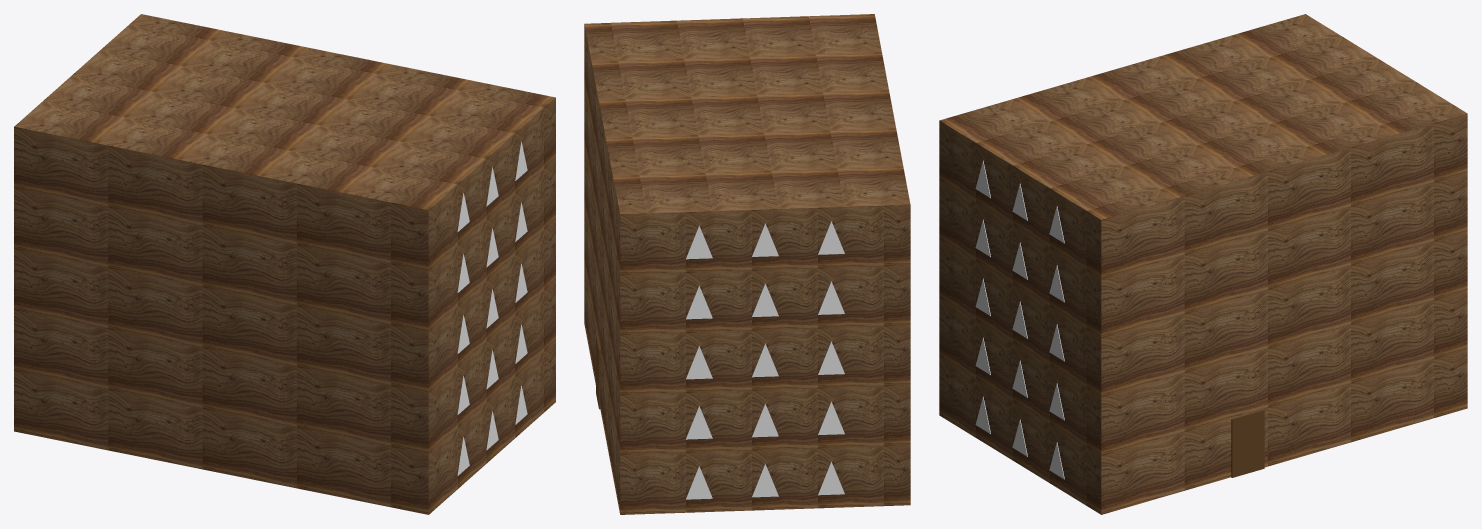
The model's file is bld_mlmpjoa3_fdl69pi.glb.
3 renders of one model, left to right at view 1: azimuth 30°, elevation 25°; view 2: azimuth 150°, elevation 25°; view 3: azimuth 270°, elevation 25°, orthographic. The views are drawn at different scales.
Parts seen in each view (by area): view 1: building-building-1771097181013; view 2: building-building-1771097181013, object 40, object 56, object 44, object 48, object 60, object 52, object 4, object 8, object 12, object 24, object 20 (+4 smaller); view 3: building-building-1771097181013.
Part boxes in pixels (<box>): building-building-1771097181013: <box>14,14,555,514</box>; building-building-1771097181013: <box>584,14,910,514</box>; object 40: <box>818,281,844,314</box>; object 56: <box>752,223,778,256</box>; object 44: <box>752,283,778,316</box>; object 48: <box>686,285,712,319</box>; object 60: <box>686,225,712,259</box>; object 52: <box>818,221,844,254</box>; object 4: <box>818,461,844,495</box>; object 8: <box>752,464,778,497</box>; object 12: <box>686,466,712,499</box>; object 24: <box>685,406,712,439</box>; object 20: <box>752,403,778,437</box>; building-building-1771097181013: <box>939,14,1467,514</box>.
Bounding box in the file's own units: 22.52 × 15.06 × 24.4.
5 materials, 1 textured.
